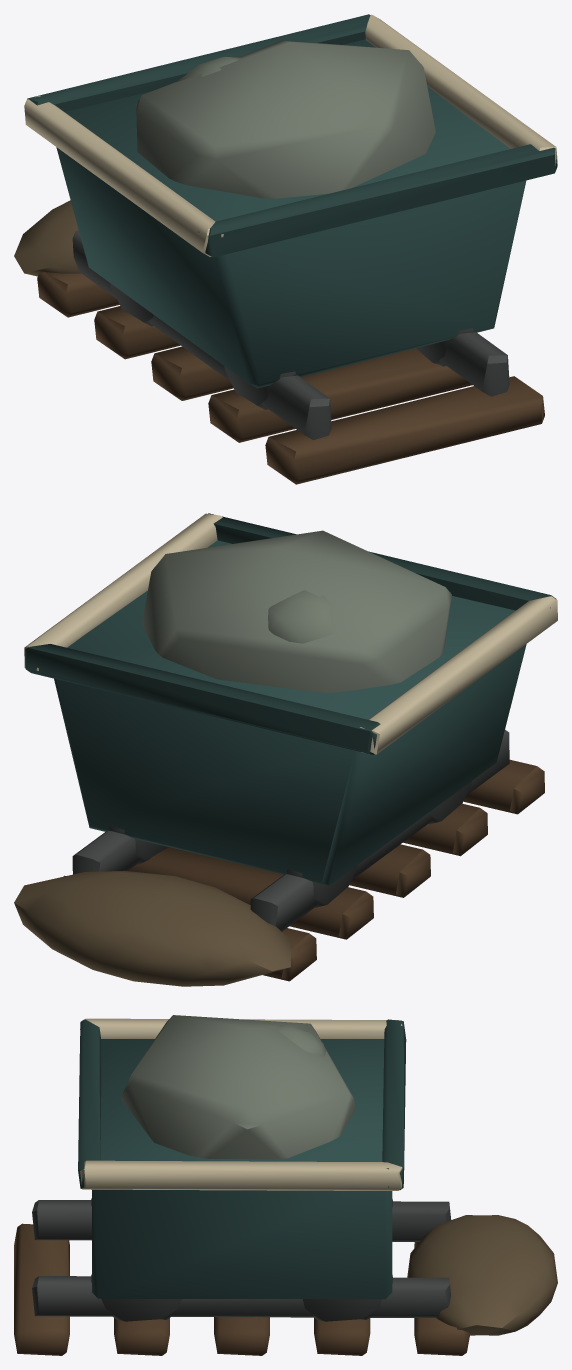
The model's file is ore_cart_stub_a_lod1.glb.
The picture shows the model from 3 angles, top to bottom: view 1: azimuth 30°, elevation 25°; view 2: azimuth 150°, elevation 25°; view 3: azimuth 270°, elevation 25°; orthographic projection. The views are drawn at different scales.
Visible parts, largest first — view 1: Surface.001; view 2: Surface.001; view 3: Surface.001.
Part boxes in pixels (bbox=[...]): Surface.001: bbox=[14, 14, 557, 484]; Surface.001: bbox=[14, 513, 557, 986]; Surface.001: bbox=[14, 1015, 557, 1355].
Bounding box in the file's own units: 1.8 × 1.56 × 2.72.
